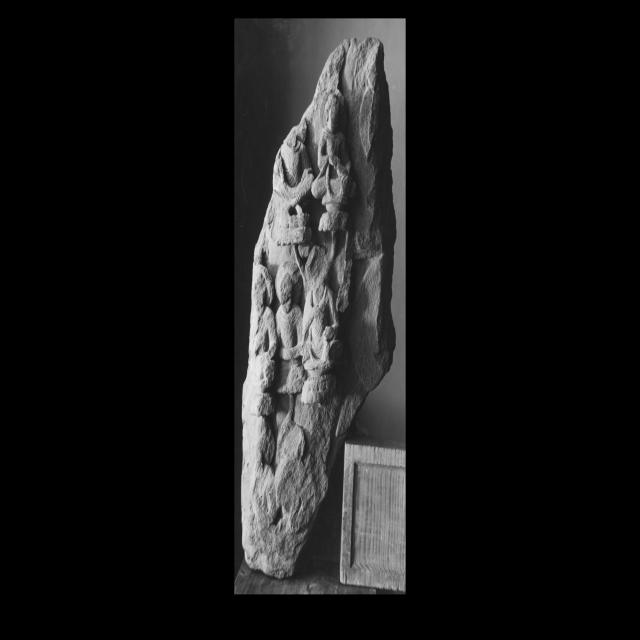buddha-sitting: (311, 89, 356, 231)
